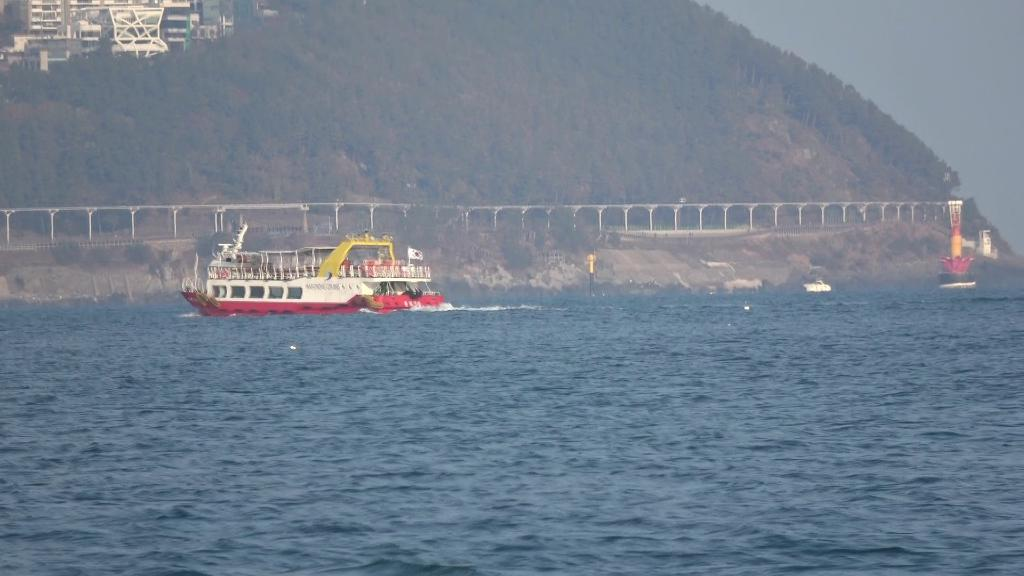PassengerShip: (165, 222, 449, 320)
